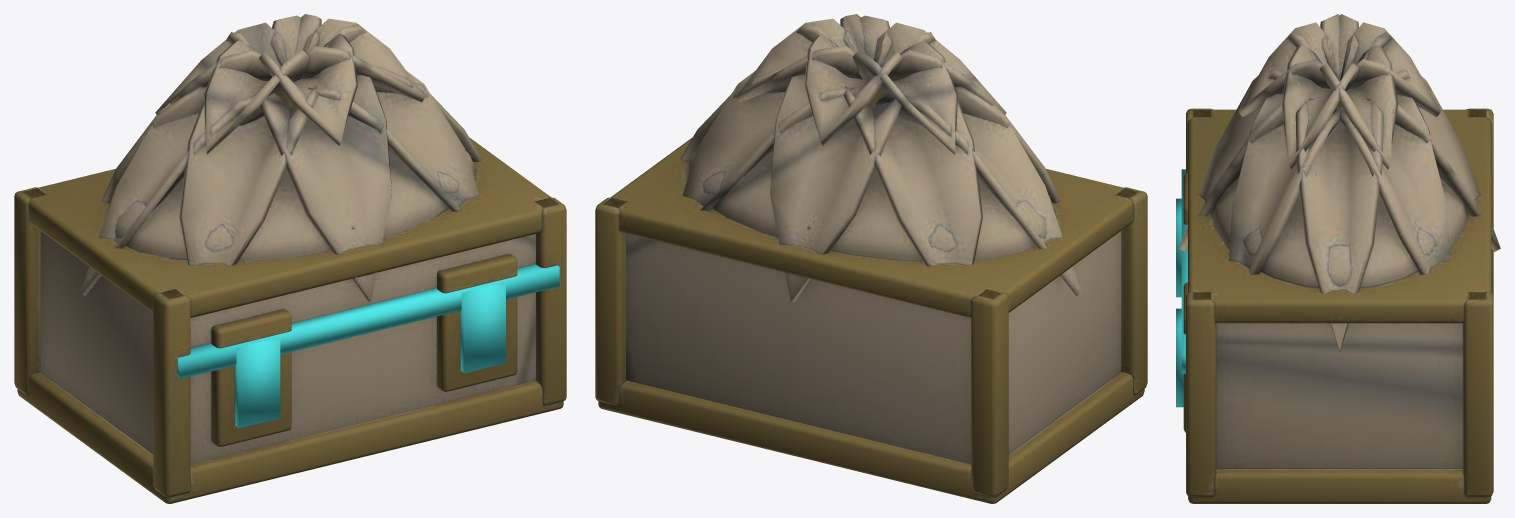
The model's file is marble_chest.glb.
3 views of the same model, side by side, from view 1: azimuth 30°, elevation 25°; view 2: azimuth 150°, elevation 25°; view 3: azimuth 270°, elevation 25° (orthographic).
Parts seen in each view (by area): view 1: marble_chest.001; view 2: marble_chest.001; view 3: marble_chest.001.
Part boxes in pixels (x1=…): marble_chest.001: x1=14, y1=14, x2=566, y2=503; marble_chest.001: x1=595, y1=14, x2=1147, y2=503; marble_chest.001: x1=1176, y1=14, x2=1500, y2=503.
Size of the model in its own units: 1.12 by 0.9378 by 0.7494.
Materials: 1 (1 with a texture image).
